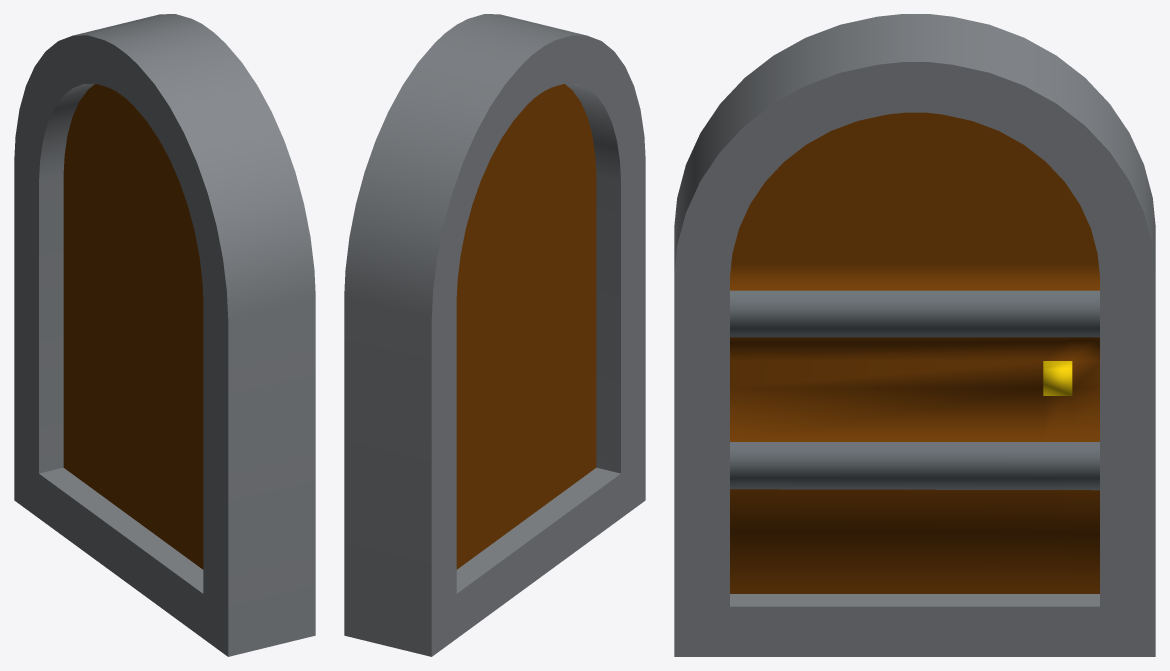
File: Hub Doors.fbx
The picture shows the model from 3 angles, left to right: view 1: azimuth 30°, elevation 25°; view 2: azimuth 150°, elevation 25°; view 3: azimuth 270°, elevation 25°; orthographic projection. The views are drawn at different scales.
Parts seen in each view (by area): view 1: Doorframe, Door; view 2: Doorframe, Door; view 3: Door, Doorframe.
Part boxes in pixels (<box>): Doorframe: <box>14,14,315,656</box>; Door: <box>63,83,203,569</box>; Doorframe: <box>344,14,645,656</box>; Door: <box>456,83,596,569</box>; Door: <box>730,112,1099,593</box>; Doorframe: <box>674,14,1155,656</box>.
Size of the model in its own units: 94.86 by 547 by 401.
